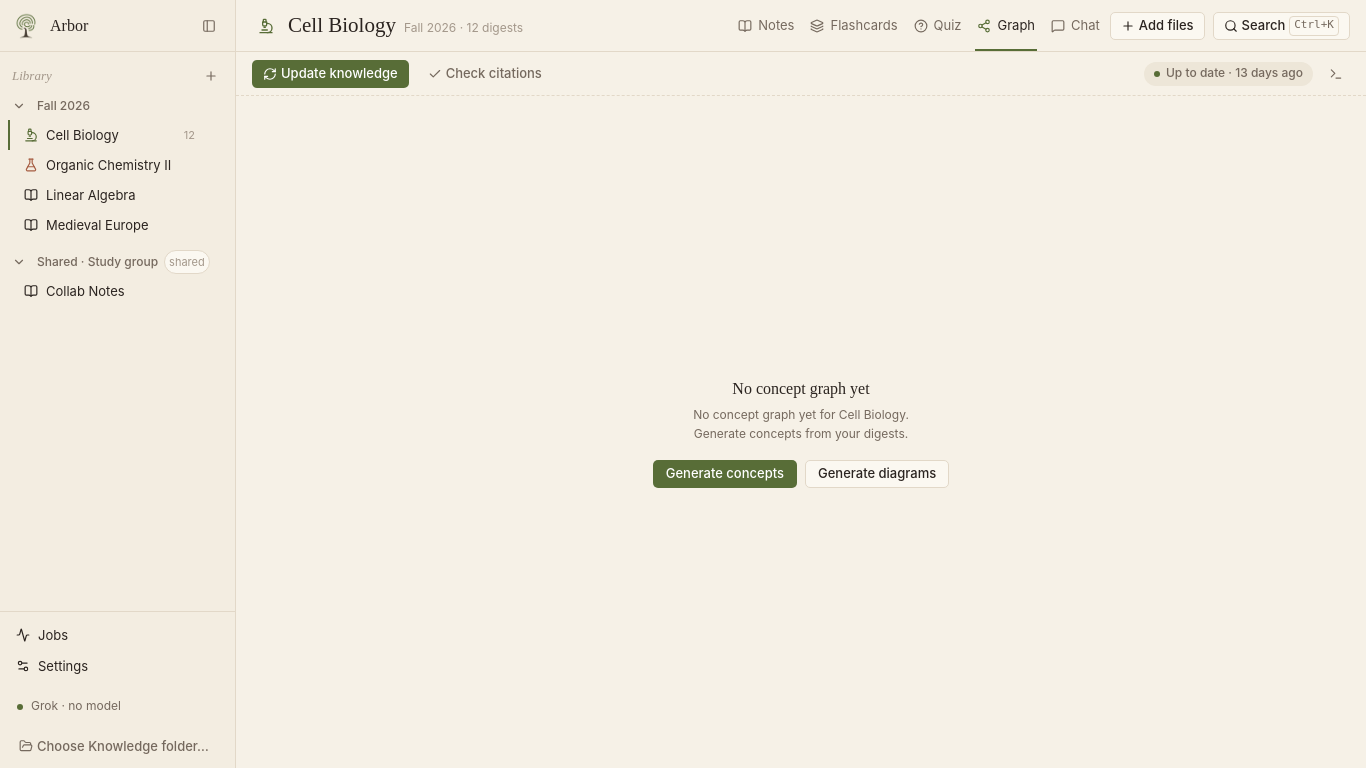
Test: graph PR10 › shows Select a model when generating without a model
What coordinates should you click on to do the following:
click the button "Generate concepts"
I would click on:
 (725, 474)
Its box is [653,460,797,488].
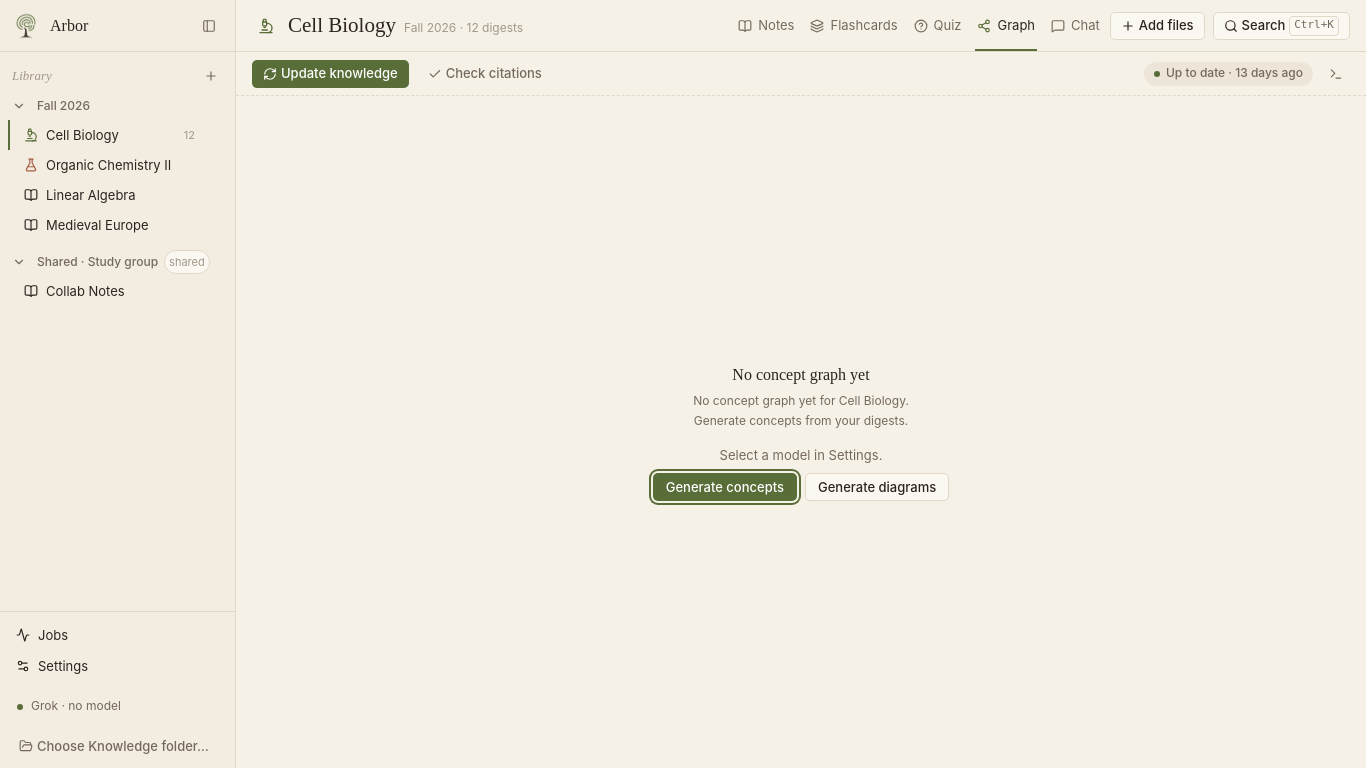
Result: the text "Select a model in Settings." is shown at [720,446,882,465]
